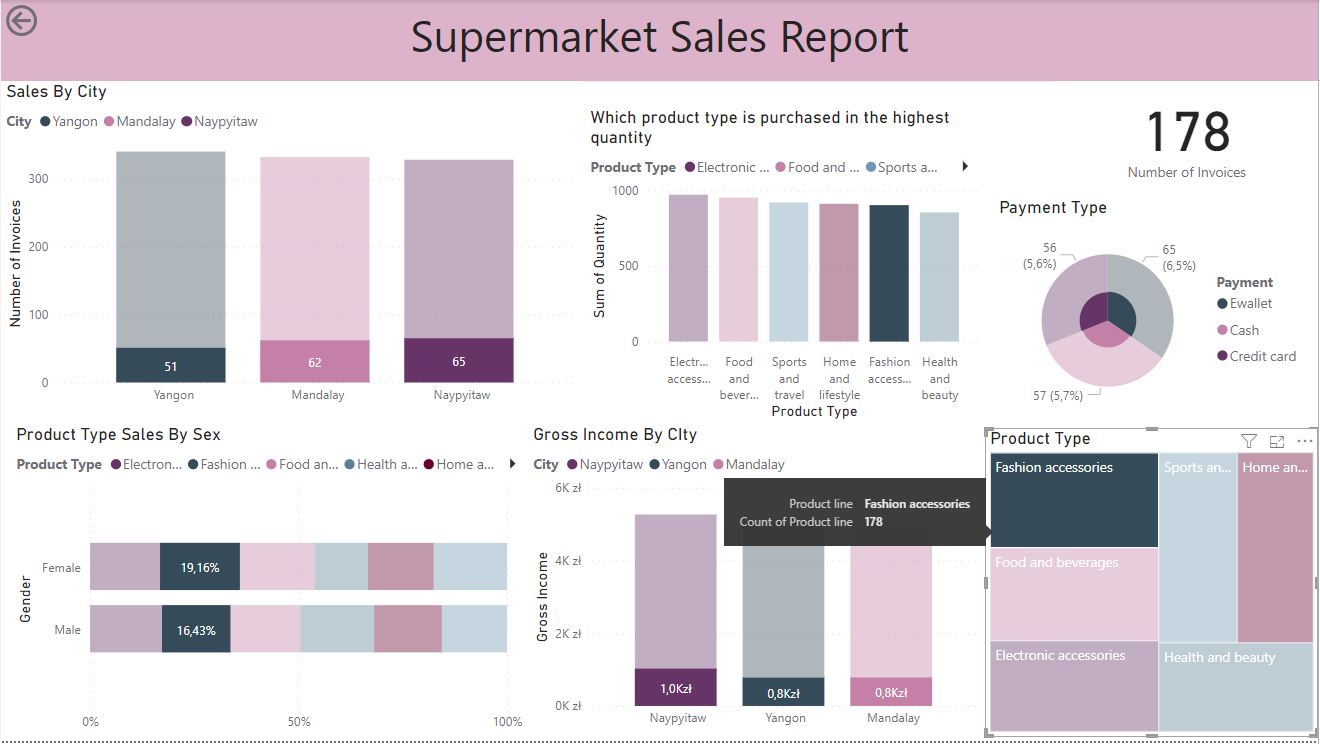

The dashboard page shown, as its layout file describes it:
{"tool":"powerbi","page":{"name":"Page 1","canvas":[1280,720],"ordinal":0},"visuals":[{"type":"textbox","box":[0,0,1280,78.7],"z":0},{"type":"card","fields":{"Values":["CountNonNull(supermarket_sales - Sheet1 (2).Invoice ID)"]},"box":[1024.4,78.7,255.6,102.1],"z":1000},{"type":"columnChart","title":"Sales By City","fields":{"Category":["supermarket_sales - Sheet1 (2).City"],"Y":["CountNonNull(supermarket_sales - Sheet1 (2).Invoice ID)"],"Series":["supermarket_sales - Sheet1 (2).City"]},"box":[0,78.7,564.7,322.7],"z":2000},{"type":"hundredPercentStackedBarChart","title":"Product Type Sales By Sex","fields":{"Category":["supermarket_sales - Sheet1 (2).Gender"],"Series":["supermarket_sales - Sheet1 (2).Product line"],"Y":["CountNonNull(supermarket_sales - Sheet1 (2).Product line)"]},"box":[9.7,412.1,502.5,308.1],"z":3000},{"type":"pieChart","title":"Payment Type","fields":{"Category":["supermarket_sales - Sheet1 (2).Payment"],"Y":["CountNonNull(supermarket_sales - Sheet1 (2).Payment)"]},"box":[965.1,191.5,308.1,220.6],"z":4000},{"type":"columnChart","title":"Gross Income By CIty","fields":{"Category":["supermarket_sales - Sheet1 (2).City"],"Y":["Sum(supermarket_sales - Sheet1 (2).gross income)"],"Series":["supermarket_sales - Sheet1 (2).City"]},"box":[512.2,412.1,444.2,304.2],"z":5000},{"type":"columnChart","title":"Which product type is purchased in the highest quantity","fields":{"Category":["supermarket_sales - Sheet1 (2).Product line"],"Y":["Sum(supermarket_sales - Sheet1 (2).Quantity)"],"Series":["supermarket_sales - Sheet1 (2).Product line"]},"box":[567.6,104,388.8,308.1],"z":6000},{"type":"actionButton","box":[0,0,100,40],"z":6002},{"type":"treemap","title":"Product Type","fields":{"Group":["supermarket_sales - Sheet1 (2).Product line"],"Values":["CountNonNull(supermarket_sales - Sheet1 (2).Product line)"]},"box":[956.4,416,323.6,300.3],"z":6003}]}

Visuals, with their boxes in screenshot pixels (x1, y1, x2, y2), scaled from the page's 1280x720 canvas onto the 1320x744 screenshot:
textbox: (x1=0, y1=0, x2=1319, y2=81)
card - CountNonNull(supermarket_sales - Sheet1 (2).Invoice ID): (x1=1056, y1=81, x2=1319, y2=187)
"Sales By City" columnChart: (x1=0, y1=81, x2=582, y2=415)
"Product Type Sales By Sex" hundredPercentStackedBarChart: (x1=10, y1=426, x2=528, y2=743)
"Payment Type" pieChart: (x1=995, y1=198, x2=1313, y2=426)
"Gross Income By CIty" columnChart: (x1=528, y1=426, x2=986, y2=740)
"Which product type is purchased in the highest quantity" columnChart: (x1=585, y1=107, x2=986, y2=426)
actionButton: (x1=0, y1=0, x2=103, y2=41)
"Product Type" treemap: (x1=986, y1=430, x2=1319, y2=740)
